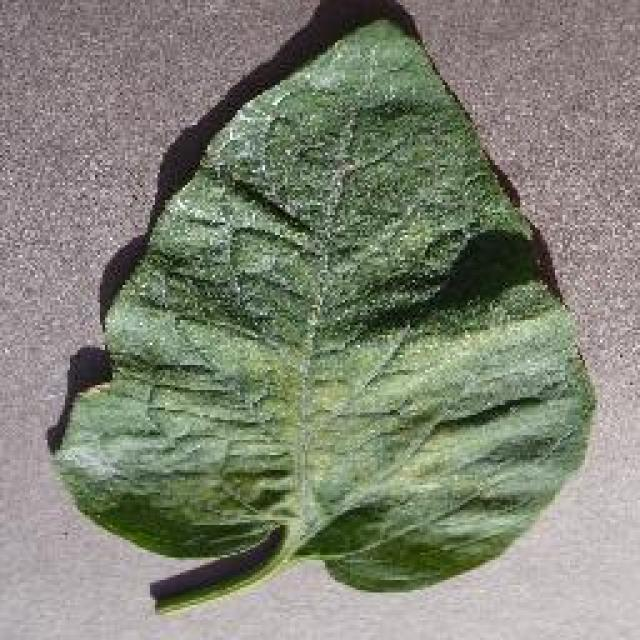Tomato mosaic virus leaf: (49, 8, 601, 598)
